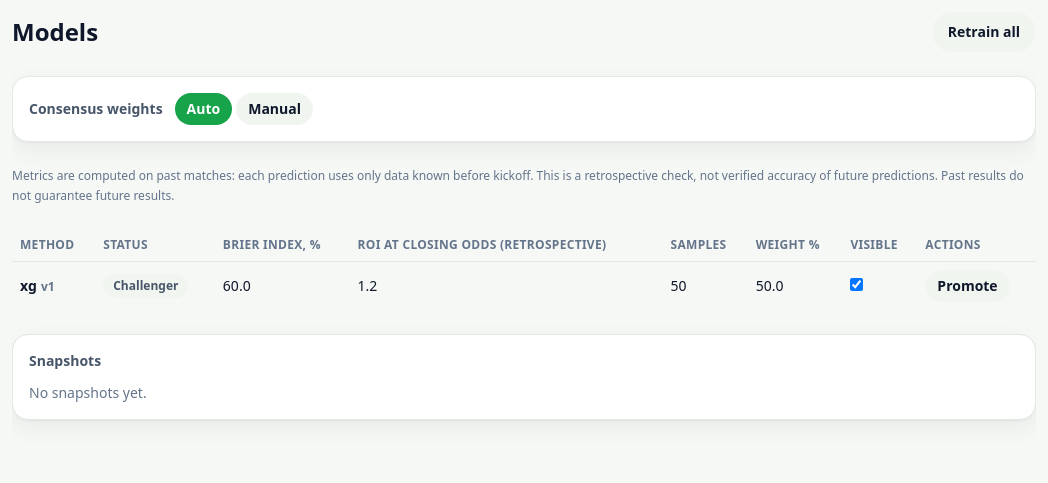
Test: ModelsView › shows a warning after promoting below the minimum samples
Click the button "Promote" at (967, 286), box [925,270,1010,302]
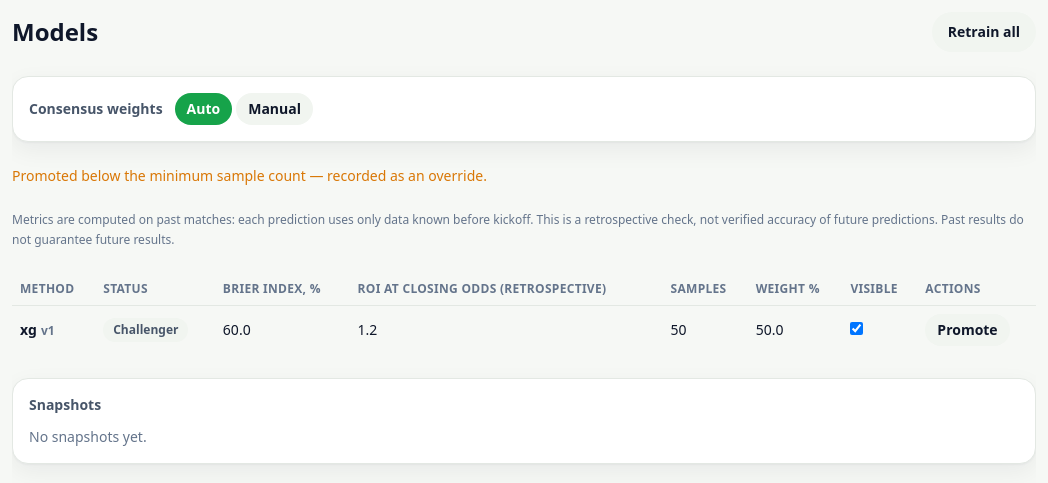
Expected: the text "Promoted below the minimum sample count — recorded as an override." is shown, [12,166,487,185]
